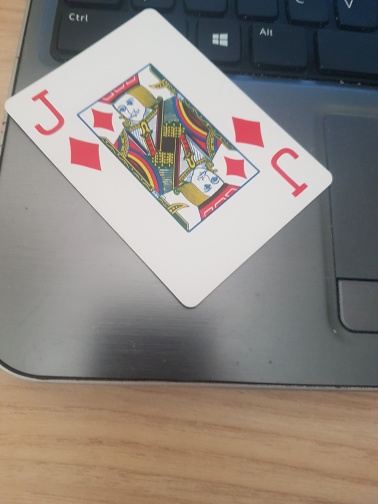jack: (6, 7, 334, 304)
